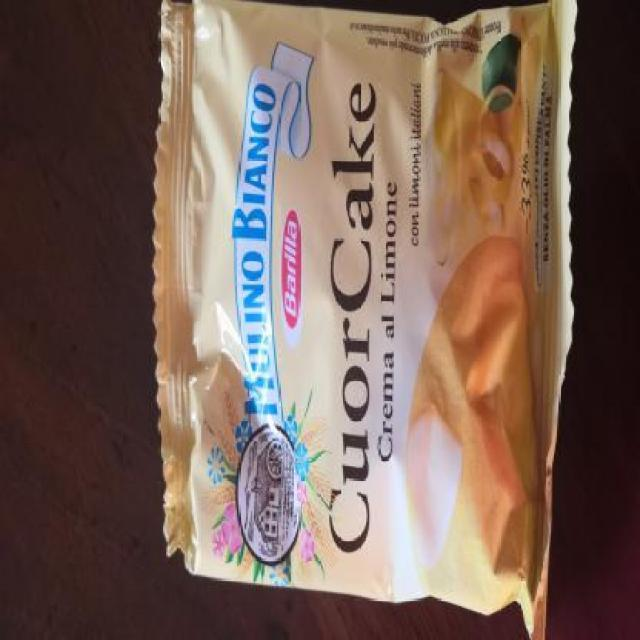Merendine: (150, 7, 582, 639)
